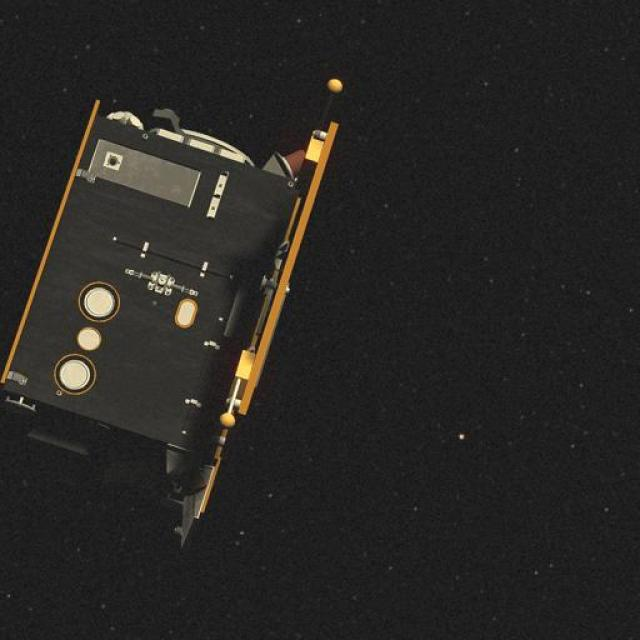proba_2: (26, 74, 327, 537)
